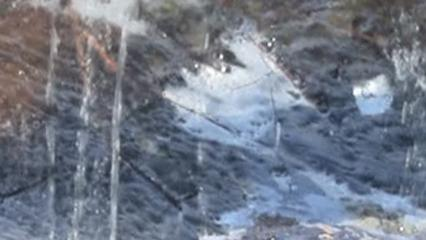rust: (1, 2, 53, 136), (73, 20, 130, 95)
